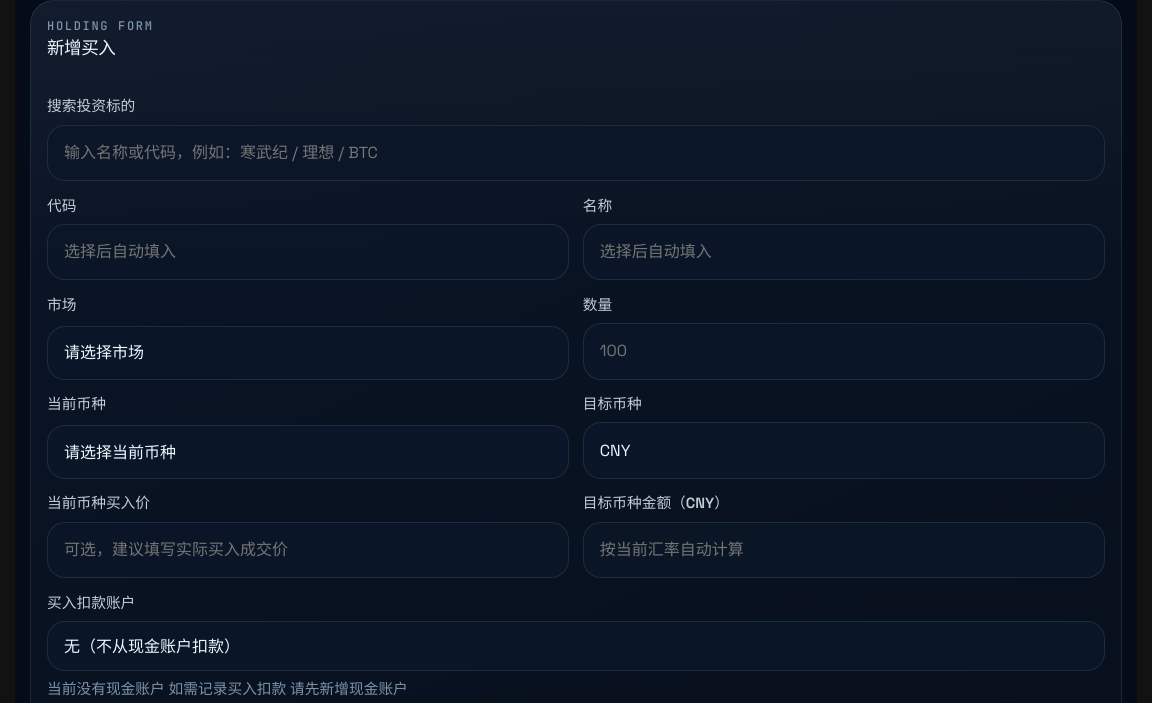
HoldingForm search results › starts searching with a single-character query and shows the empty state
In the field labelled "搜索投资标的": (576, 153) [47,125,1105,181], type "寒"
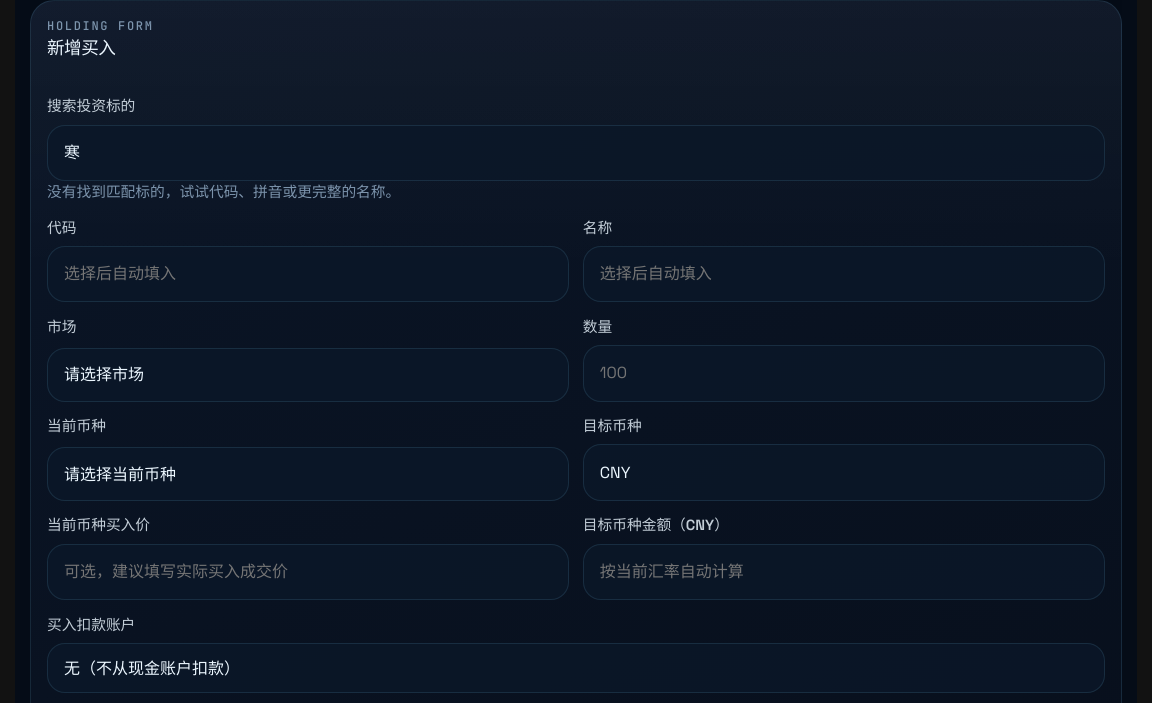
Now the text "没有找到匹配标的，试试代码、拼音或更完整的名称。" is shown, box [47,183,400,201]
